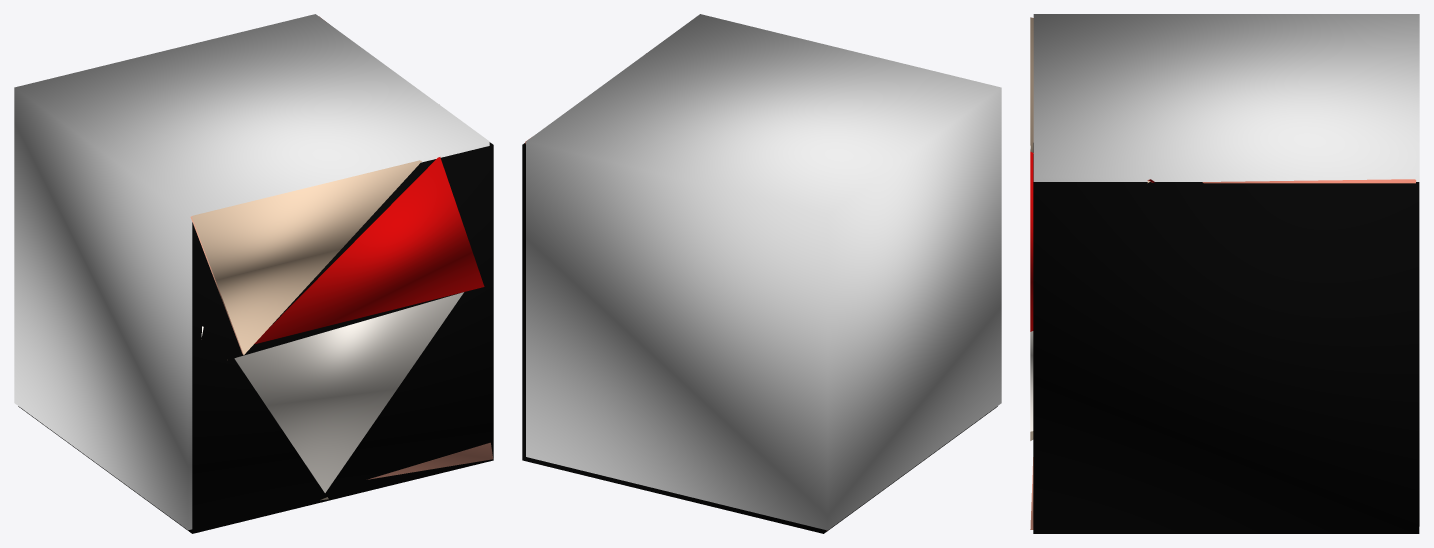
3 renders of one model, left to right at view 1: azimuth 30°, elevation 25°; view 2: azimuth 150°, elevation 25°; view 3: azimuth 270°, elevation 25°, orthographic. The views are drawn at different scales.
Parts seen in each view (by area): view 1: Renderer Node; view 2: Renderer Node; view 3: Renderer Node.
Boxes of the visible parts, left/top/right/bottom form: Renderer Node: left=14, top=14, right=493, bottom=533; Renderer Node: left=522, top=14, right=1001, bottom=533; Renderer Node: left=1030, top=14, right=1419, bottom=533.
Bounding box in the file's own units: 1.6 × 1.6 × 1.59.
